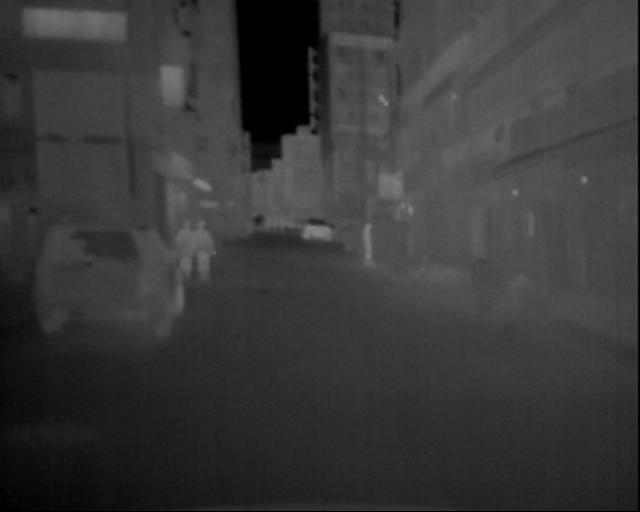person: (186, 212, 221, 288), (172, 205, 196, 289), (358, 210, 381, 263)
